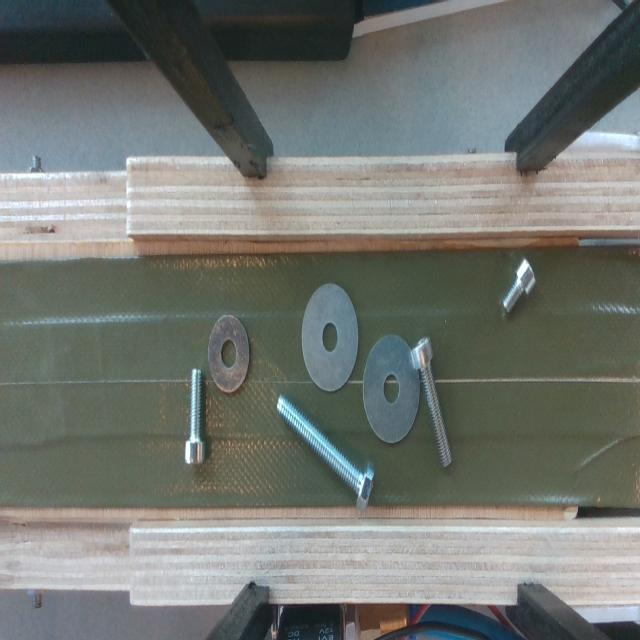Bolt: (276, 395, 374, 510), (411, 338, 451, 466), (185, 369, 205, 463), (502, 259, 536, 313)
washer: (301, 283, 359, 391), (364, 335, 420, 442), (208, 314, 250, 393)
